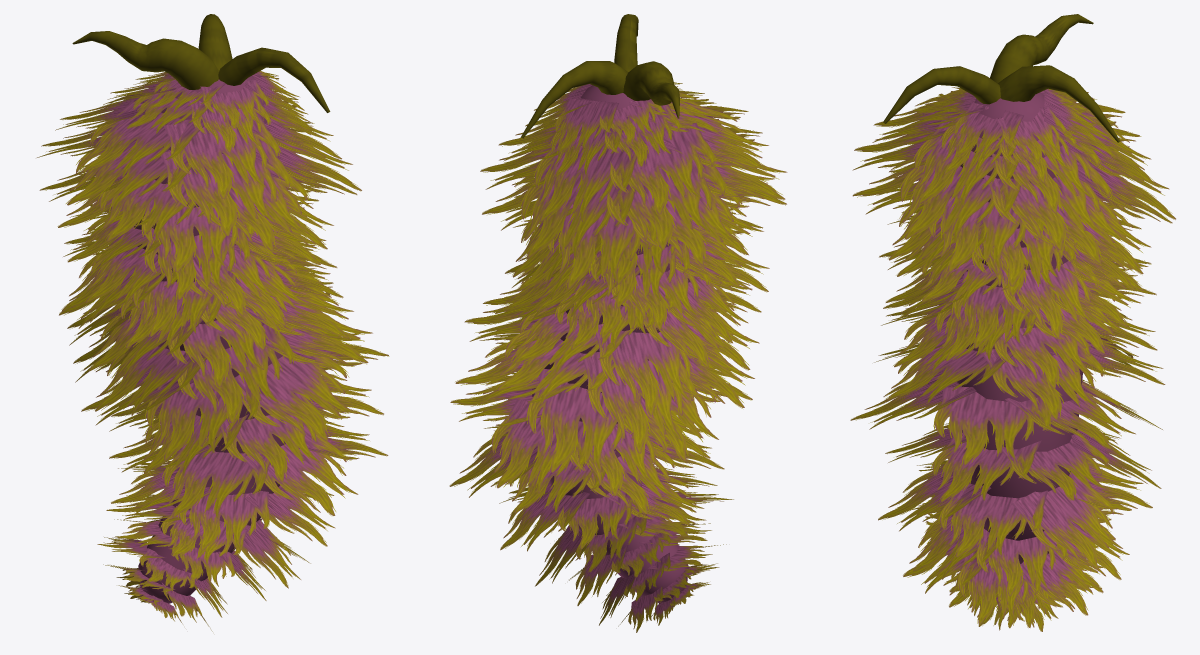
The model's file is CucumberModel.fbx.
The picture shows the model from 3 angles, left to right: view 1: azimuth 30°, elevation 25°; view 2: azimuth 150°, elevation 25°; view 3: azimuth 270°, elevation 25°; orthographic projection. The views are drawn at different scales.
Visible parts, largest first — view 1: gurke; view 2: gurke; view 3: gurke.
Boxes of the visible parts, x1,y1,x2,y2 form: gurke: (37, 14, 389, 631); gurke: (449, 14, 787, 632); gurke: (850, 14, 1175, 631).
Bounding box in the file's own units: 0.0865 × 0.146 × 0.0791.
